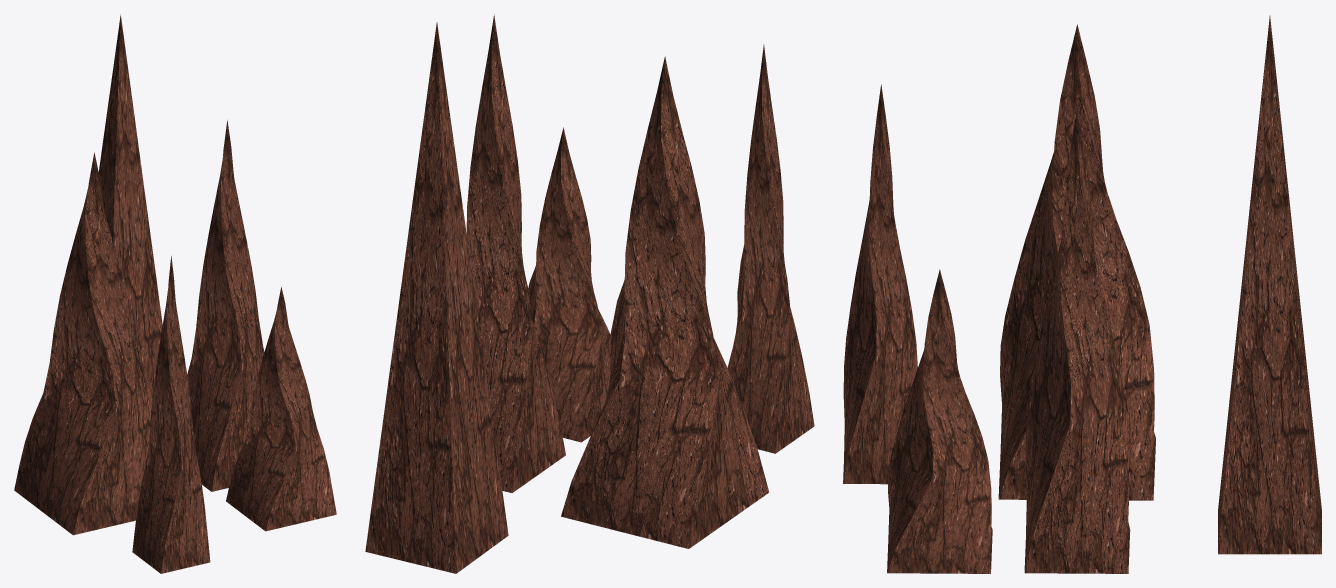
Rendered from Estalactites.fbx.
The picture shows the model from 3 angles, left to right: view 1: azimuth 30°, elevation 25°; view 2: azimuth 150°, elevation 25°; view 3: azimuth 270°, elevation 25°; orthographic projection. The views are drawn at different scales.
Visible parts, largest first — view 1: Pyramid004, Pyramid003, Pyramid002, Pyramid005, Pyramid001; view 2: Pyramid004, Pyramid001, Pyramid003, Pyramid005, Pyramid002; view 3: Pyramid003, Pyramid001, Pyramid004, Pyramid002, Pyramid005.
Part boxes in pixels (x1,y1,x2,y2): Pyramid004: (14,152,152,535); Pyramid003: (187,120,264,491); Pyramid002: (226,287,336,531); Pyramid005: (132,256,210,573); Pyramid001: (98,14,162,398); Pyramid004: (561,56,769,548); Pyramid001: (365,22,508,573); Pyramid003: (466,14,565,492); Pyramid005: (727,44,814,453); Pyramid002: (528,127,611,442); Pyramid003: (1024,107,1130,573); Pyramid001: (1218,15,1321,554); Pyramid004: (998,24,1155,500); Pyramid002: (887,269,992,573); Pyramid005: (843,84,917,484).
Size of the model in its own units: 311 by 550 by 461.
1 material, 1 textured.
